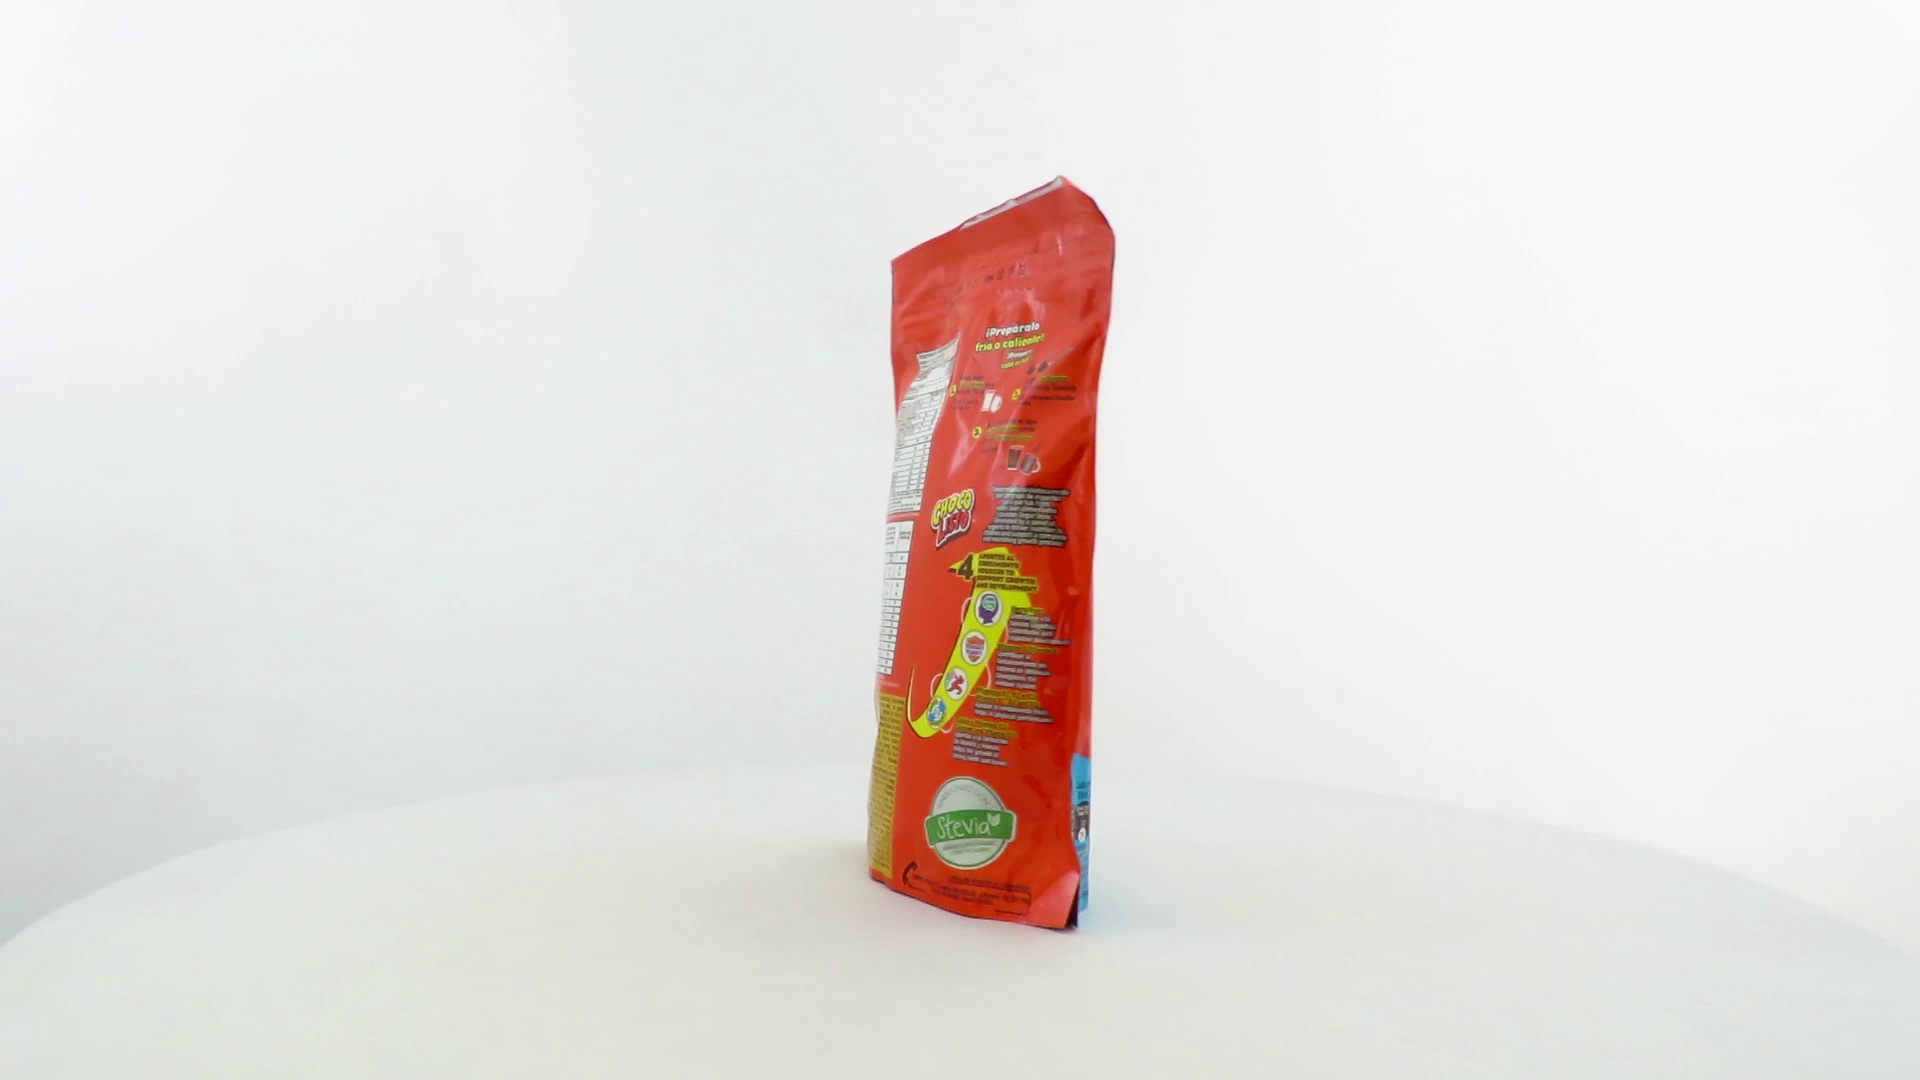COL0170104DYP20000: (861, 170, 1122, 938)
